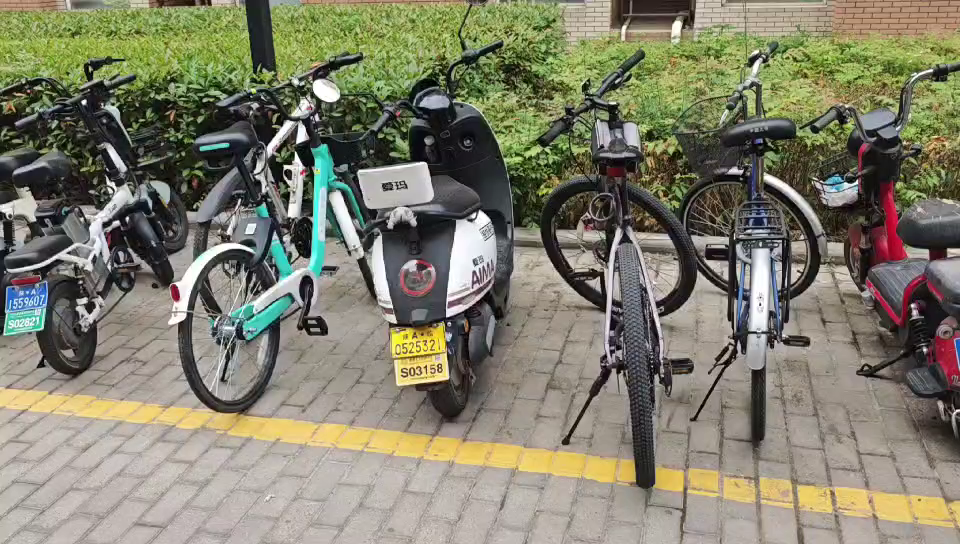others: (533, 52, 690, 492), (816, 64, 960, 447), (361, 55, 510, 415), (699, 50, 821, 448), (5, 74, 156, 382)
shared_bike_qingcong: (175, 77, 367, 411)
